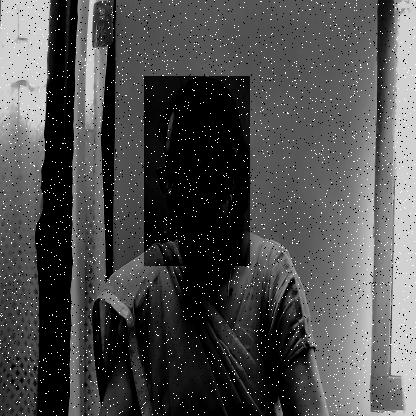Distracted: (144, 76, 250, 266)
